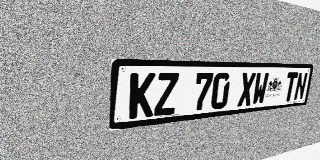0: (210, 73, 231, 110)
7: (191, 73, 214, 112)
K: (128, 73, 156, 119)
N: (293, 72, 308, 101)
T: (283, 72, 298, 102)
W: (251, 72, 269, 105)
X: (237, 72, 256, 107)
Z: (154, 73, 179, 116)
